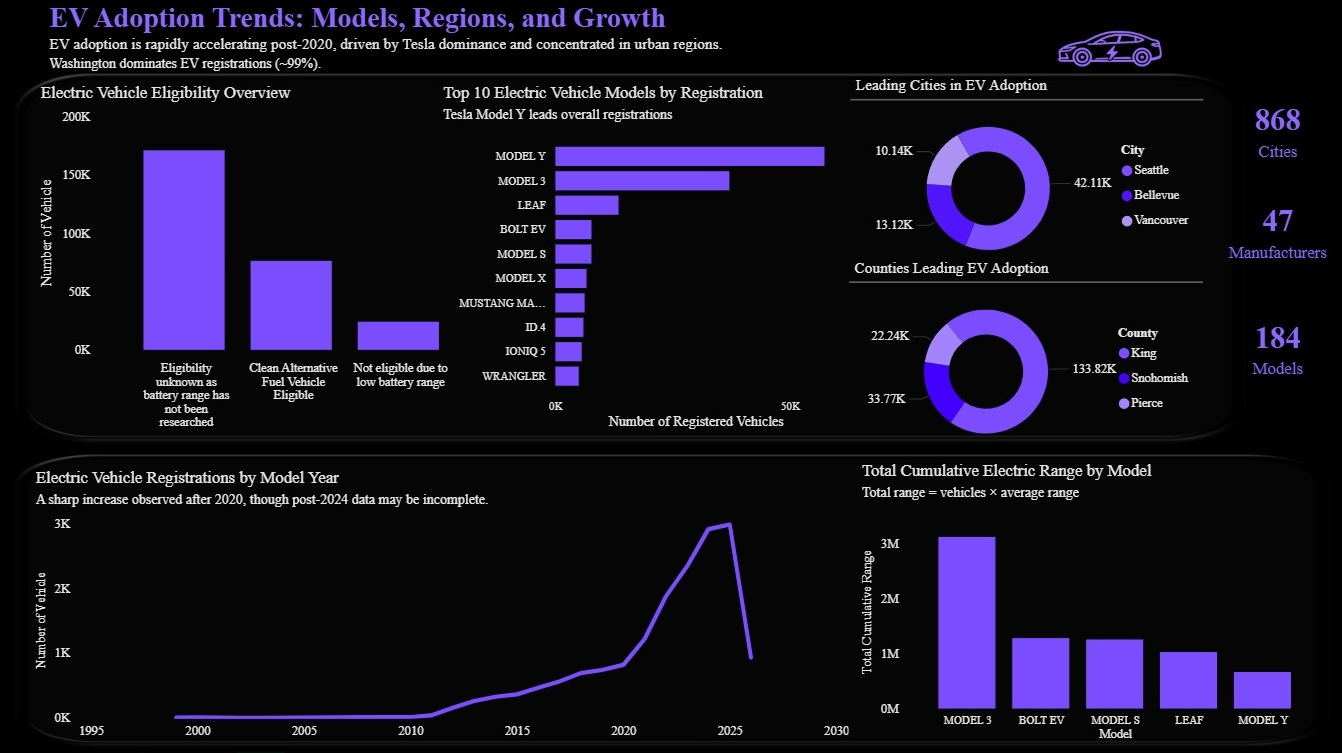

Layout of this report page (visuals, bound fields, positions):
{"tool":"powerbi","page":{"name":"Page 1","canvas":[1280,720],"ordinal":0},"visuals":[{"type":"image","box":[14.3,71.4,1176.2,353.6],"z":0},{"type":"image","box":[14.3,434.5,1256,279.8],"z":1000},{"type":"columnChart","title":"Electric Vehicle Eligibility Overview","fields":{"Category":["Electric_Vehicle_Population_Data.Clean Alternative Fuel Vehicle (CAFV) Eligibility"],"Y":["CountNonNull(Electric_Vehicle_Population_Data.Clean Alternative Fuel Vehicle (CAFV) Eligibility)"]},"box":[35.7,82.1,434.5,338.1],"z":2000},{"type":"columnChart","title":"Total Cumulative Electric Range by Model","fields":{"Category":["Electric_Vehicle_Population_Data.Model"],"Y":["Sum(Electric_Vehicle_Population_Data.Electric Range)"]},"box":[817.9,441.7,448.8,271.4],"z":3000},{"type":"donutChart","title":"Counties Leading EV Adoption","fields":{"Category":["Electric_Vehicle_Population_Data.County"],"Y":["CountNonNull(Electric_Vehicle_Population_Data.County)"]},"box":[810.7,250,336.9,190.5],"z":5000},{"type":"clusteredBarChart","title":"Top 10 Electric Vehicle Models by Registration","fields":{"Category":["Electric_Vehicle_Population_Data.Model"],"Y":["CountNonNull(Electric_Vehicle_Population_Data.Model)"]},"box":[419,82,395.2,334.5],"z":6000},{"type":"donutChart","title":"Leading Cities in EV Adoption","fields":{"Category":["Electric_Vehicle_Population_Data.City"],"Y":["CountNonNull(Electric_Vehicle_Population_Data.City)"]},"box":[811.9,76.2,335.7,189.3],"z":7000},{"type":"card","fields":{"Values":["Count(Electric_Vehicle_Population_Data.City)"]},"box":[1158.3,86.9,121.4,76.2],"z":8000},{"type":"textbox","box":[44,0,679.8,81],"z":9000},{"type":"lineChart","title":"Electric Vehicle Registrations by Model Year","fields":{"Category":["Electric_Vehicle_Population_Data.Model Year"],"Y":["Count(Electric_Vehicle_Population_Data.VIN (1-10))"]},"box":[31,448.8,784.5,264.3],"z":10000},{"type":"card","fields":{"Values":["Count(Electric_Vehicle_Population_Data.Model)"]},"box":[1158.3,294,121.4,76.2],"z":11000},{"type":"card","fields":{"Values":["Count(Electric_Vehicle_Population_Data.Make)"]},"box":[1158.3,183.3,121.4,76.2],"z":12000},{"type":"image","box":[979.8,10.7,157.1,81],"z":13000}]}

Visuals, with their boxes in screenshot pixels (x1, y1, x2, y2), scaled from the page's 1280x720 canvas onto the 1342x753 screenshot:
image: left=15, top=75, right=1248, bottom=444
image: left=15, top=454, right=1332, bottom=747
"Electric Vehicle Eligibility Overview" columnChart: left=37, top=86, right=493, bottom=439
"Total Cumulative Electric Range by Model" columnChart: left=858, top=462, right=1328, bottom=746
"Counties Leading EV Adoption" donutChart: left=850, top=261, right=1203, bottom=461
"Top 10 Electric Vehicle Models by Registration" clusteredBarChart: left=439, top=86, right=854, bottom=436
"Leading Cities in EV Adoption" donutChart: left=851, top=80, right=1203, bottom=278
card - Count(Electric_Vehicle_Population_Data.City): left=1214, top=91, right=1341, bottom=171
textbox: left=46, top=0, right=759, bottom=85
"Electric Vehicle Registrations by Model Year" lineChart: left=33, top=469, right=855, bottom=746
card - Count(Electric_Vehicle_Population_Data.Model): left=1214, top=307, right=1341, bottom=387
card - Count(Electric_Vehicle_Population_Data.Make): left=1214, top=192, right=1341, bottom=271
image: left=1027, top=11, right=1192, bottom=96
